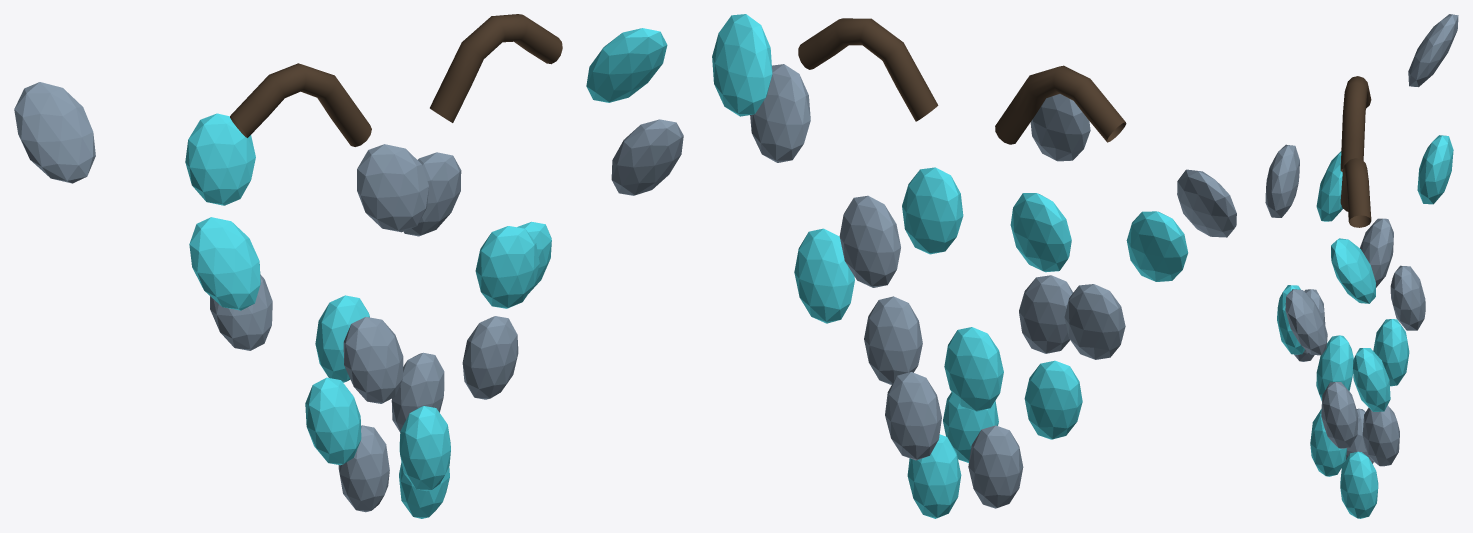
The model's file is swarm_v8.glb.
3 views of the same model, side by side, from view 1: azimuth 30°, elevation 25°; view 2: azimuth 150°, elevation 25°; view 3: azimuth 270°, elevation 25° (orthographic). The views are drawn at different scales.
Visible parts, largest first — view 1: SWARM_CREATURE_PRIMARY.008, SWARM_CREATURE_ACCENT.006, SWARM_CREATURE_PRIMARY.007, SWEEP_ANTLER_SECONDARY, SWEEP_ANTLER_SECONDARY.001, SWARM_CREATURE_ACCENT.007, SWARM_CREATURE_ACCENT.008, SWARM_CREATURE_ACCENT.005, SWARM_CREATURE_PRIMARY.003, SWARM_CREATURE_PRIMARY.006, SWARM_CREATURE_ACCENT.002, SWARM_CREATURE_PRIMARY.002 (+8 smaller); view 2: SWEEP_ANTLER_SECONDARY.001, SWARM_CREATURE_ACCENT.008, SWEEP_ANTLER_SECONDARY, SWARM_CREATURE_PRIMARY.005, SWARM_CREATURE_ACCENT.004, SWARM_CREATURE_PRIMARY.006, SWARM_CREATURE_ACCENT.005, SWARM_CREATURE_PRIMARY.002, SWARM_CREATURE_PRIMARY.001, SWARM_CREATURE_ACCENT.003, SWARM_CREATURE_ACCENT.007, SWARM_CREATURE_PRIMARY.004 (+8 smaller); view 3: SWARM_CREATURE_ACCENT, SWARM_CREATURE_ACCENT.008, SWEEP_ANTLER_SECONDARY, SWARM_CREATURE_PRIMARY.002, SWARM_CREATURE_PRIMARY.007, SWARM_CREATURE_PRIMARY.006, SWARM_CREATURE_PRIMARY.008, SWARM_CREATURE_ACCENT.007, SWARM_CREATURE_ACCENT.004, SWARM_CREATURE_PRIMARY.001, SWARM_CREATURE_PRIMARY.005, SWEEP_ANTLER_SECONDARY.001 (+8 smaller).
Part boxes in pixels (x1,y1,x2,y2): SWARM_CREATURE_PRIMARY.008: (14, 82, 95, 183); SWARM_CREATURE_ACCENT.006: (189, 217, 260, 310); SWARM_CREATURE_PRIMARY.007: (357, 144, 428, 232); SWEEP_ANTLER_SECONDARY: (230, 63, 371, 146); SWEEP_ANTLER_SECONDARY.001: (430, 14, 562, 122); SWARM_CREATURE_ACCENT.007: (185, 113, 255, 205); SWARM_CREATURE_ACCENT.008: (586, 28, 667, 102); SWARM_CREATURE_ACCENT.005: (475, 226, 539, 308); SWARM_CREATURE_PRIMARY.003: (343, 317, 403, 403); SWARM_CREATURE_PRIMARY.006: (611, 119, 683, 195); SWARM_CREATURE_ACCENT.002: (305, 377, 361, 465); SWARM_CREATURE_PRIMARY.002: (462, 316, 518, 399); SWEEP_ANTLER_SECONDARY.001: (798, 18, 938, 121); SWARM_CREATURE_ACCENT.008: (712, 14, 772, 116); SWEEP_ANTLER_SECONDARY: (995, 65, 1126, 144); SWARM_CREATURE_PRIMARY.005: (839, 195, 900, 287); SWARM_CREATURE_ACCENT.004: (794, 228, 854, 323); SWARM_CREATURE_PRIMARY.006: (750, 64, 810, 162); SWARM_CREATURE_ACCENT.005: (902, 167, 963, 254); SWARM_CREATURE_PRIMARY.002: (864, 296, 922, 384); SWARM_CREATURE_PRIMARY.001: (885, 372, 941, 460); SWARM_CREATURE_ACCENT.003: (944, 327, 1003, 411); SWARM_CREATURE_ACCENT.007: (1010, 193, 1071, 272); SWARM_CREATURE_PRIMARY.004: (1064, 284, 1125, 359); SWARM_CREATURE_ACCENT: (1340, 451, 1378, 518); SWARM_CREATURE_ACCENT.008: (1331, 238, 1375, 303); SWEEP_ANTLER_SECONDARY: (1340, 76, 1371, 171); SWARM_CREATURE_PRIMARY.002: (1321, 382, 1358, 448); SWARM_CREATURE_PRIMARY.007: (1265, 144, 1299, 217); SWARM_CREATURE_PRIMARY.006: (1285, 289, 1327, 355); SWARM_CREATURE_PRIMARY.008: (1408, 14, 1458, 87); SWARM_CREATURE_ACCENT.007: (1417, 135, 1453, 204); SWARM_CREATURE_ACCENT.004: (1353, 348, 1390, 411); SWARM_CREATURE_PRIMARY.001: (1362, 405, 1399, 466); SWARM_CREATURE_PRIMARY.005: (1390, 265, 1425, 330); SWEEP_ANTLER_SECONDARY.001: (1340, 158, 1371, 227).
Size of the model in its own units: 2.61 by 2.07 by 0.9348.
